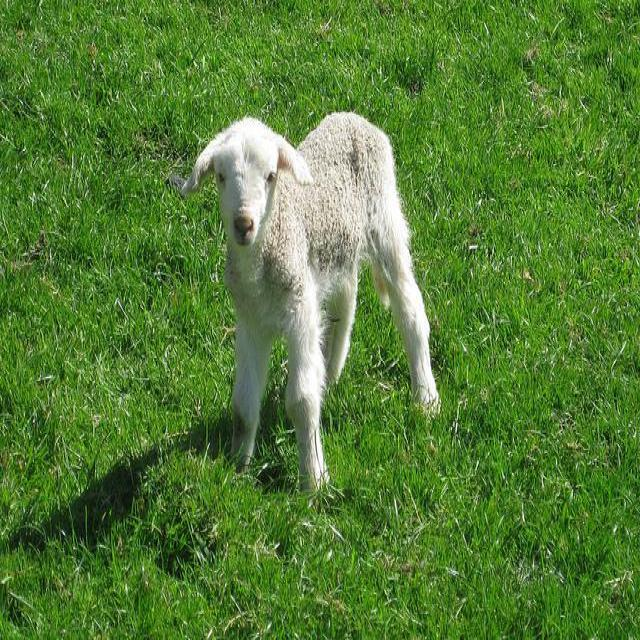Sheep: (182, 108, 442, 495)
